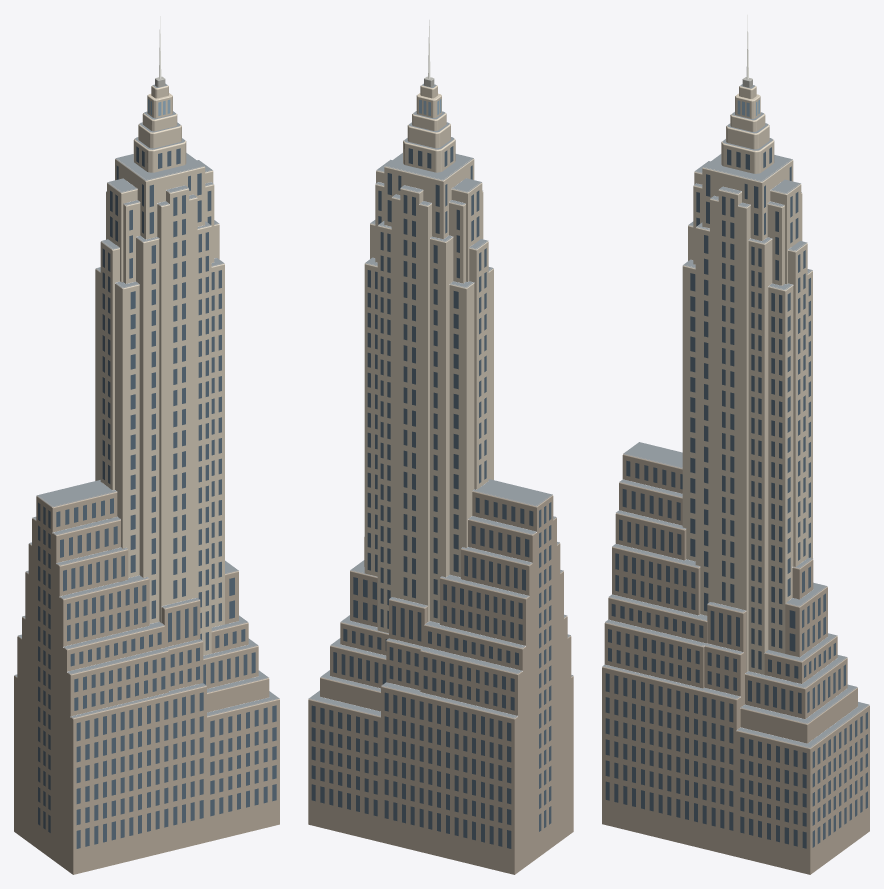
The model's file is nyc-70-pine.glb.
3 renders of one model, left to right at view 1: azimuth 30°, elevation 25°; view 2: azimuth 150°, elevation 25°; view 3: azimuth 330°, elevation 25°, orthographic.
Parts seen in each view (by area): view 1: 70 Pine Street; view 2: 70 Pine Street; view 3: 70 Pine Street.
Boxes of the visible parts, x1,y1,x2,y2 form: 70 Pine Street: [14, 16, 279, 874]; 70 Pine Street: [308, 20, 573, 874]; 70 Pine Street: [602, 15, 869, 874].
Bounding box in the file's own units: 77.4 × 290 × 38.4.
